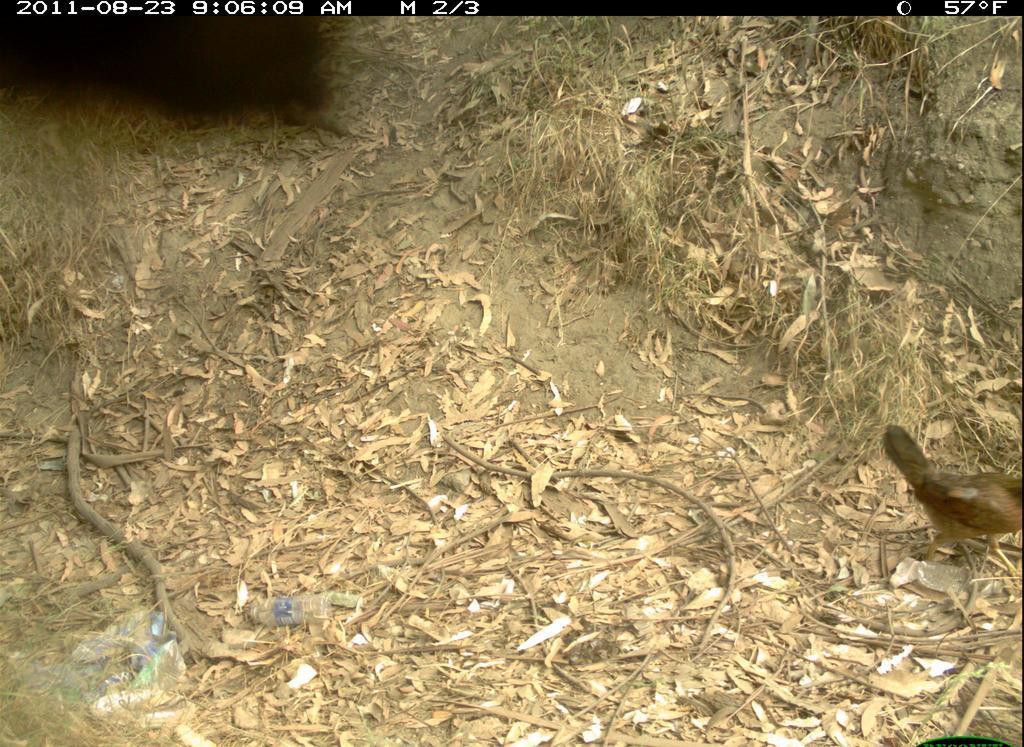bird: (871, 408, 1024, 568)
